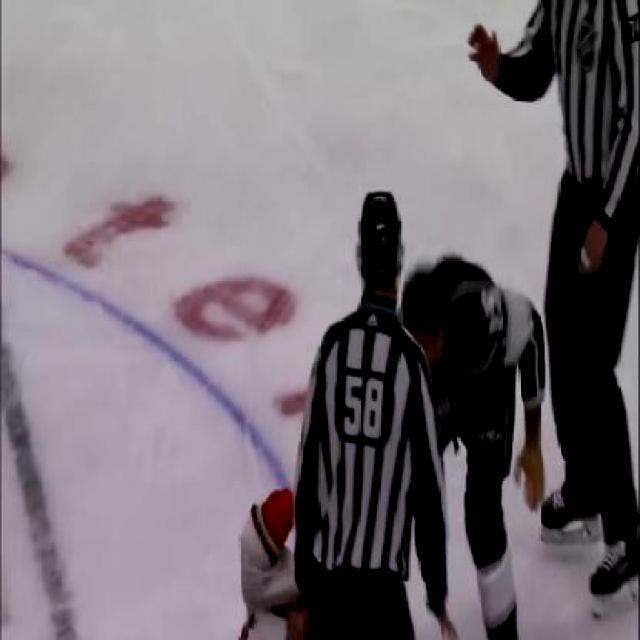fight: (236, 186, 546, 640)
